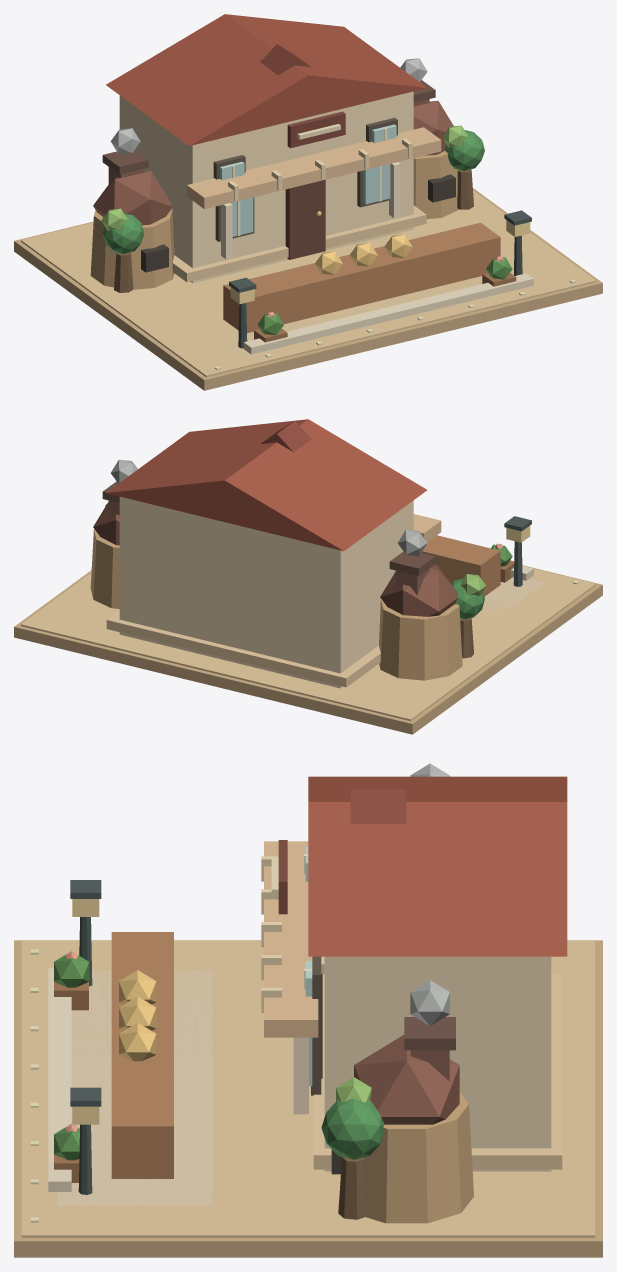
Rendered from bakery-lv4.obj.
3 renders of one model, top to bottom at view 1: azimuth 30°, elevation 25°; view 2: azimuth 150°, elevation 25°; view 3: azimuth 270°, elevation 25°, orthographic. The views are drawn at different scales.
Visible parts, largest first — view 1: bakery_4, bakery_1, bakery_3, bakery_29, bakery_0, bakery_11, bakery_21, bakery_39, bakery_22, bakery_15, bakery_5, bakery_37 (+18 smaller); view 2: bakery_3, bakery_4, bakery_1, bakery_0, bakery_21, bakery_15, bakery_22, bakery_29, bakery_28, bakery_25, bakery_26, bakery_19 (+5 smaller); view 3: bakery_1, bakery_4, bakery_3, bakery_28, bakery_0, bakery_29, bakery_21, bakery_11, bakery_22, bakery_15, bakery_39, bakery_30 (+15 smaller).
Part boxes in pixels (left/top/right/bottom): bakery_4: left=106, top=14, right=426, bottom=145; bakery_1: left=21, top=190, right=595, bottom=377; bakery_3: left=119, top=91, right=413, bottom=283; bakery_29: left=223, top=222, right=500, bottom=333; bakery_0: left=14, top=188, right=602, bottom=390; bakery_11: left=187, top=127, right=441, bottom=209; bakery_21: left=90, top=151, right=459, bottom=289; bakery_39: left=243, top=273, right=533, bottom=354; bakery_22: left=93, top=100, right=453, bottom=225; bakery_15: left=172, top=205, right=426, bottom=282; bakery_5: left=285, top=179, right=325, bottom=259; bakery_37: left=102, top=130, right=484, bottom=253; bakery_3: left=119, top=496, right=413, bottom=688; bakery_4: left=106, top=419, right=427, bottom=551; bakery_1: left=21, top=568, right=595, bottom=721; bakery_0: left=14, top=565, right=602, bottom=734; bakery_21: left=90, top=529, right=462, bottom=680; bakery_15: left=106, top=610, right=380, bottom=687; bakery_22: left=93, top=502, right=457, bottom=616; bakery_29: left=421, top=535, right=500, bottom=596; bakery_28: left=479, top=577, right=544, bottom=618; bakery_25: left=102, top=481, right=435, bottom=575; bakery_26: left=111, top=459, right=427, bottom=556; bakery_19: left=261, top=421, right=311, bottom=452; bakery_1: left=21, top=941, right=595, bottom=1237; bakery_4: left=308, top=776, right=567, bottom=956; bakery_3: left=324, top=956, right=551, bottom=1171; bakery_28: left=57, top=970, right=212, bottom=1205; bakery_0: left=14, top=940, right=602, bottom=1257; bakery_29: left=111, top=932, right=173, bottom=1178; bakery_21: left=340, top=1092, right=473, bottom=1223; bakery_11: left=264, top=841, right=318, bottom=1037; bakery_22: left=354, top=1035, right=459, bottom=1124; bakery_15: left=313, top=974, right=562, bottom=1169; bakery_39: left=48, top=968, right=71, bottom=1191; bakery_30: left=119, top=970, right=156, bottom=1061.
Size of the model in its own units: 5.5 by 2.71 by 4.55.
